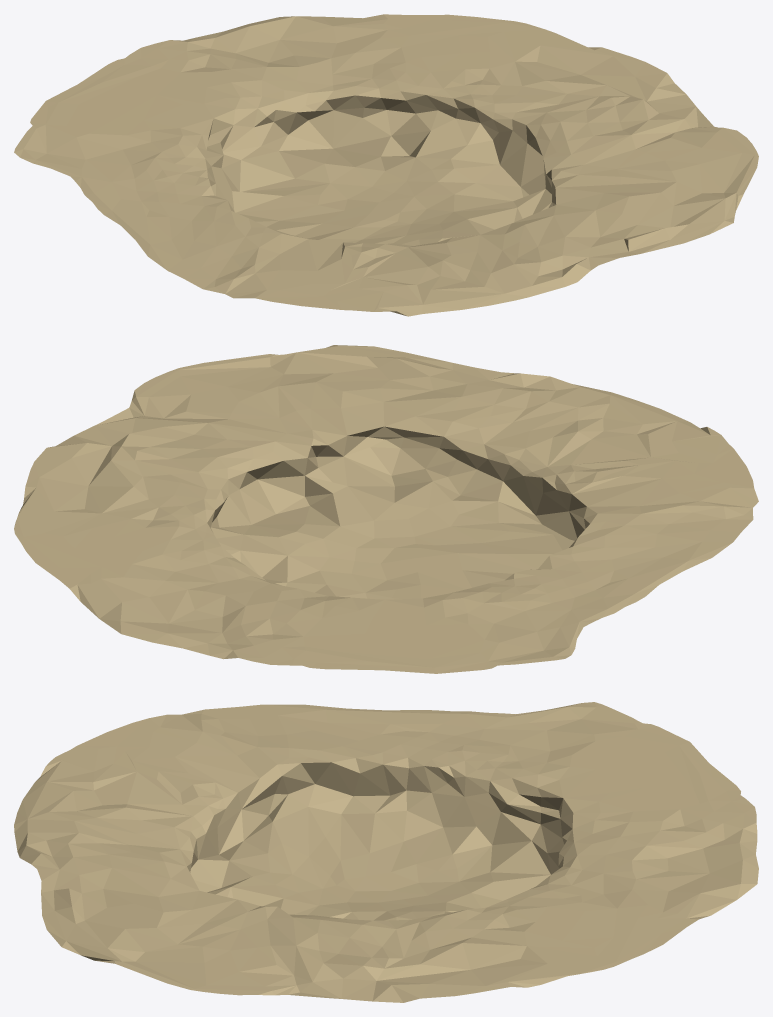
Rendered from Small Sand with a hole.fbx.
The picture shows the model from 3 angles, top to bottom: view 1: azimuth 30°, elevation 25°; view 2: azimuth 150°, elevation 25°; view 3: azimuth 270°, elevation 25°; orthographic projection. The views are drawn at different scales.
Parts seen in each view (by area): view 1: pPlane4; view 2: pPlane4; view 3: pPlane4.
Part boxes in pixels (box(x1,y1,x2,y2)): pPlane4: box(14, 14, 758, 316); pPlane4: box(14, 345, 758, 673); pPlane4: box(14, 702, 758, 1002).
Size of the model in its own units: 85.79 by 8.31 by 90.68.
